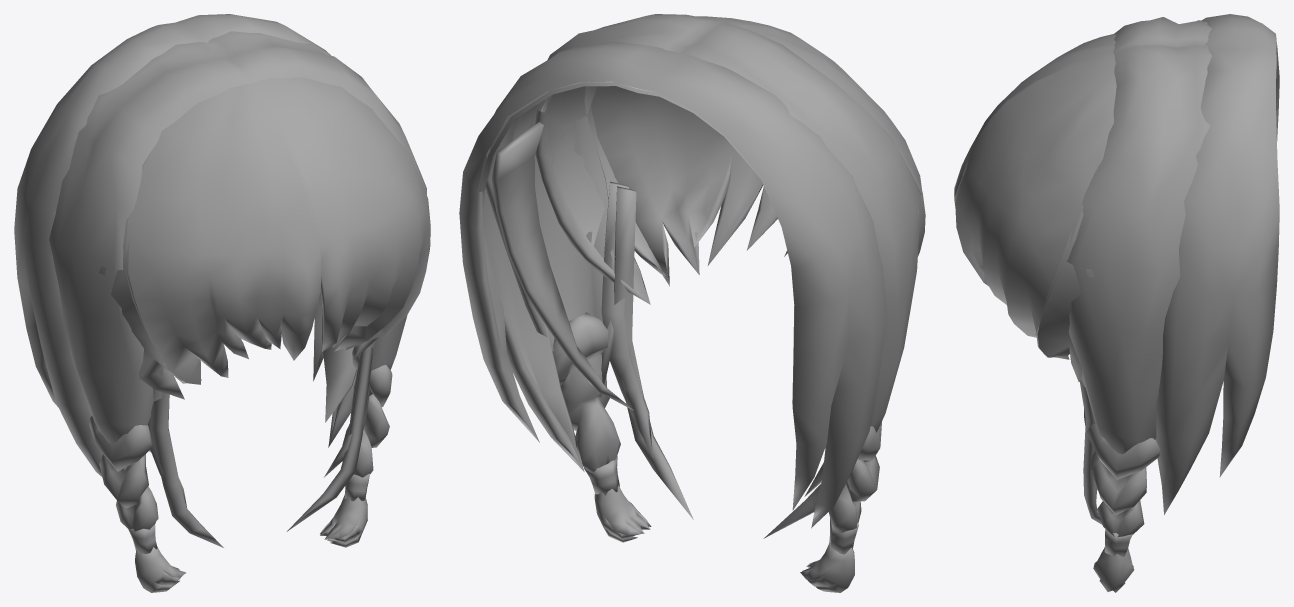
File: HairFront8.fbx
3 renders of one model, left to right at view 1: azimuth 30°, elevation 25°; view 2: azimuth 150°, elevation 25°; view 3: azimuth 270°, elevation 25°, orthographic. The views are drawn at different scales.
Parts seen in each view (by area): view 1: HairFront2_mesh; view 2: HairFront2_mesh; view 3: HairFront2_mesh.
Boxes of the visible parts, x1,y1,x2,y2 form: HairFront2_mesh: (14,14,430,592); HairFront2_mesh: (459,14,925,592); HairFront2_mesh: (954,14,1279,592).
Size of the model in its own units: 25.22 by 34.1 by 19.95.
3 materials, 3 textured.
